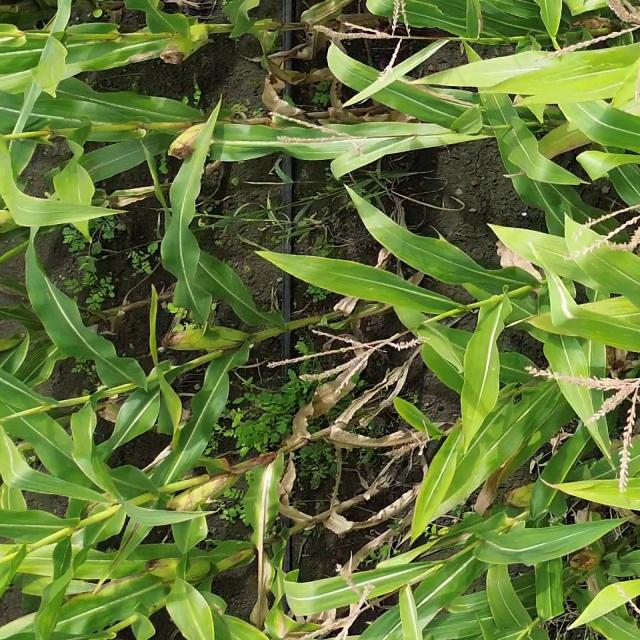northern-leaf-blight: (100, 492, 166, 584), (239, 457, 274, 630)
southern-leaf-blight: (526, 50, 640, 110), (401, 239, 481, 311)
